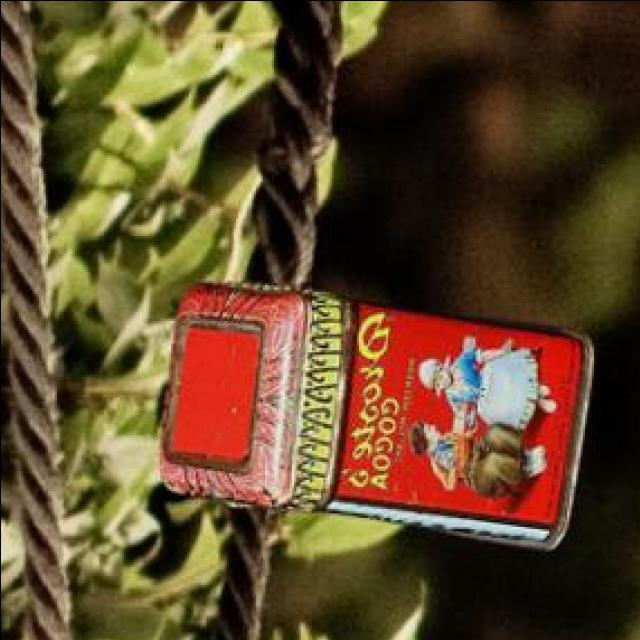logam: (156, 285, 590, 552)
